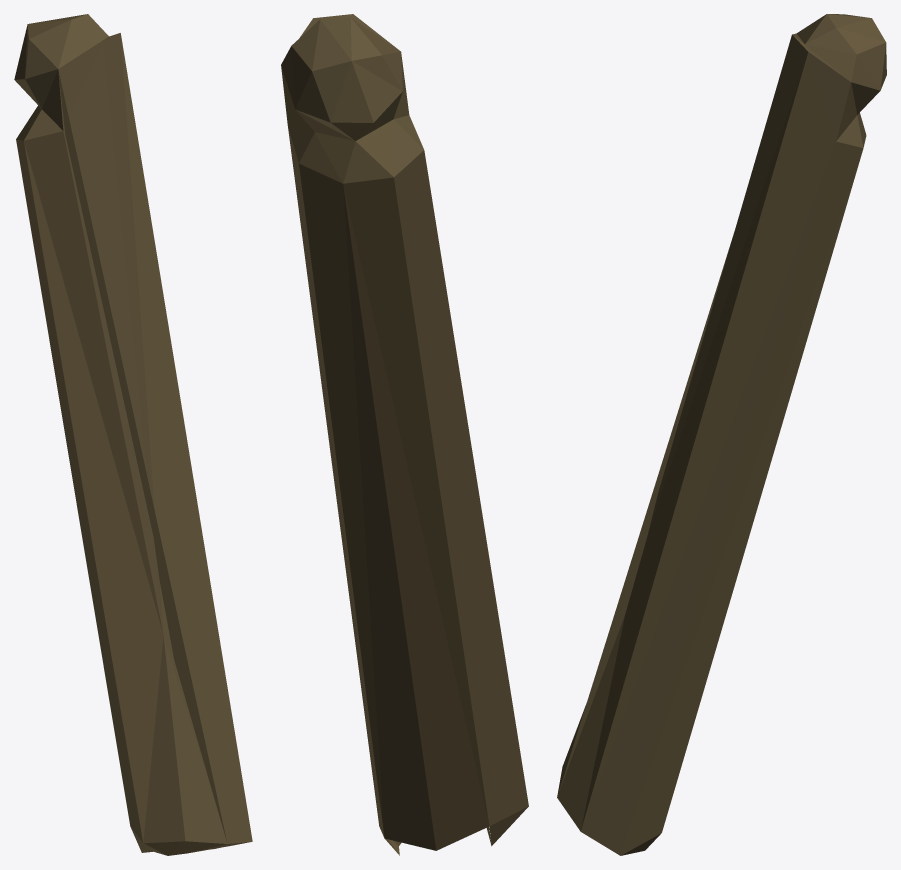
The model's file is ant-tibia-hind-right.dae.
3 renders of one model, left to right at view 1: azimuth 30°, elevation 25°; view 2: azimuth 150°, elevation 25°; view 3: azimuth 270°, elevation 25°, orthographic. The views are drawn at different scales.
Visible parts, largest first — view 1: ant-tibia-hind-right; view 2: ant-tibia-hind-right; view 3: ant-tibia-hind-right.
Part boxes in pixels (left/top/right/bottom): ant-tibia-hind-right: left=14, top=14, right=252, bottom=855; ant-tibia-hind-right: left=281, top=14, right=528, bottom=855; ant-tibia-hind-right: left=557, top=14, right=886, bottom=855.
Size of the model in its own units: 0.8529 by 1.8 by 4.9.
